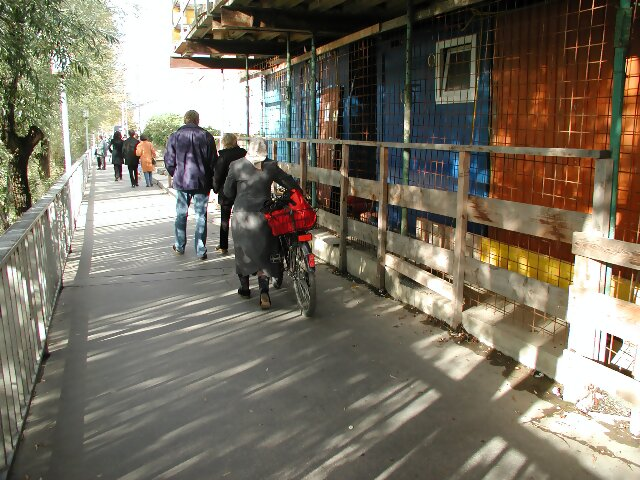person: (223, 133, 300, 314), (165, 109, 215, 265)
